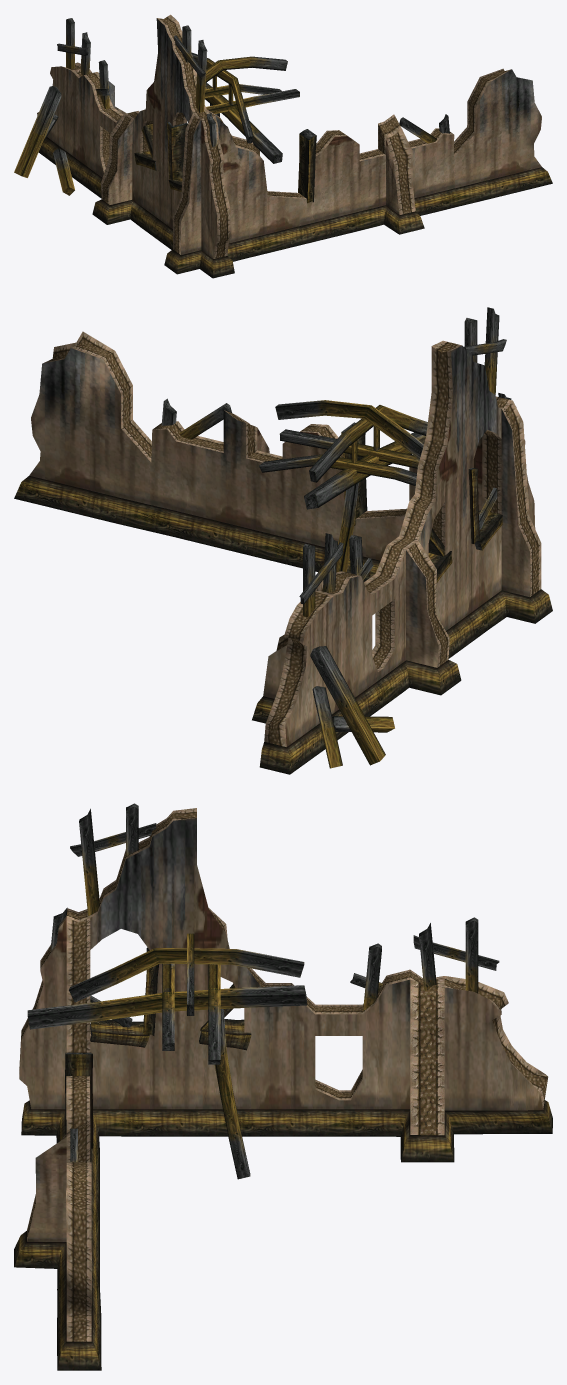
The model's file is CB_BRKN_BUILDING05.fbx.
3 renders of one model, top to bottom at view 1: azimuth 30°, elevation 25°; view 2: azimuth 150°, elevation 25°; view 3: azimuth 270°, elevation 25°, orthographic. The views are drawn at different scales.
Visible parts, largest first — view 1: CB_BRKN_BUILDING05; view 2: CB_BRKN_BUILDING05; view 3: CB_BRKN_BUILDING05.
Part boxes in pixels (x1,y1,x2,y2): CB_BRKN_BUILDING05: (14, 14, 552, 278); CB_BRKN_BUILDING05: (14, 307, 552, 774); CB_BRKN_BUILDING05: (14, 803, 552, 1370).
Bounding box in the file's own units: 346062 × 190961 × 280942.
5 materials, 5 textured.
